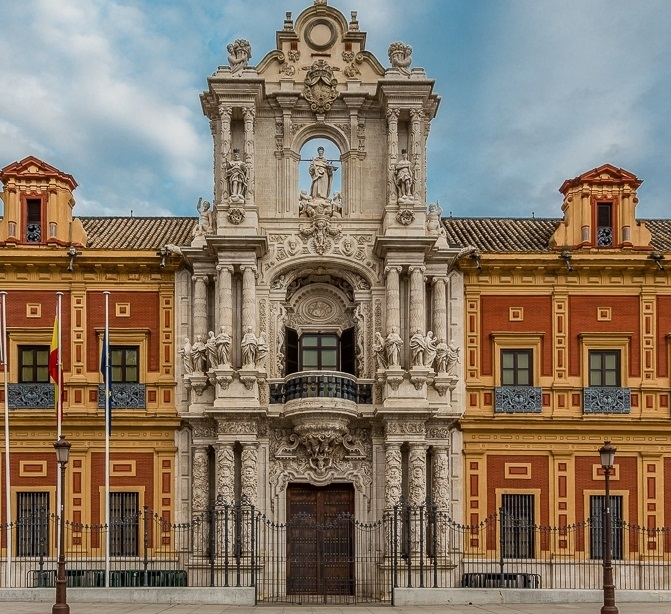arco-medio-punto: (288, 119, 351, 160)
fronton-partido: (1, 152, 60, 177), (577, 161, 637, 183)
vano-adintelado: (92, 324, 153, 414), (575, 330, 635, 421), (2, 325, 61, 417), (488, 328, 548, 417), (5, 483, 60, 563), (580, 485, 633, 565), (493, 484, 545, 562), (98, 481, 148, 559)
